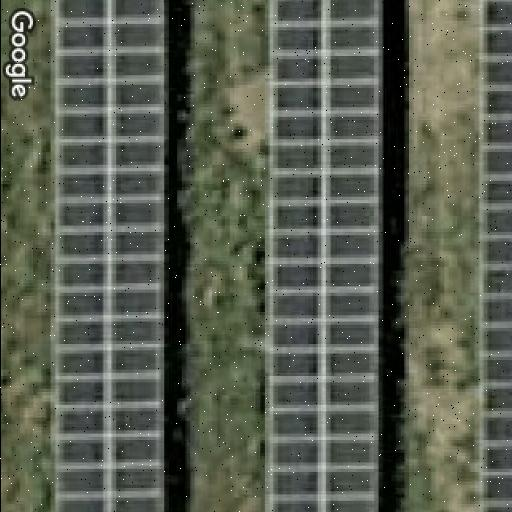solar-panel: (260, 0, 382, 512), (48, 0, 166, 512), (474, 0, 512, 512)
